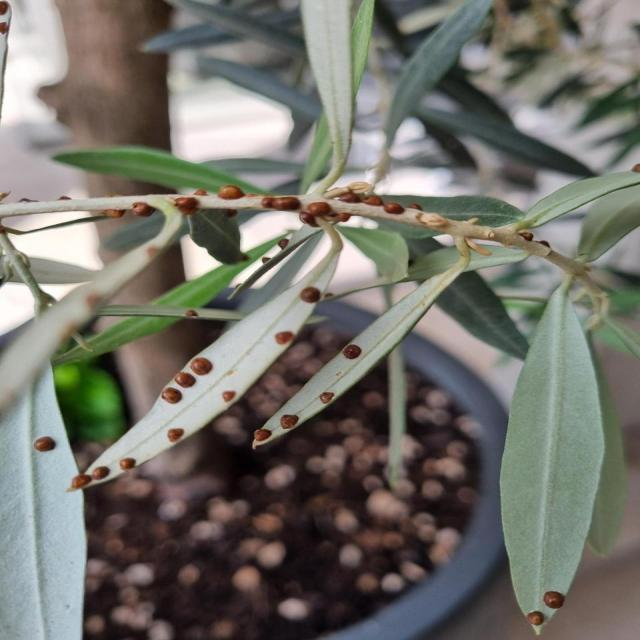Black Scale: (72, 466, 110, 489), (337, 191, 385, 206), (261, 196, 301, 212), (518, 232, 551, 250), (173, 196, 201, 216), (542, 590, 565, 610), (305, 200, 332, 217), (299, 286, 324, 304), (189, 357, 212, 376), (217, 185, 245, 200), (161, 386, 182, 404), (130, 202, 156, 216), (174, 372, 196, 388), (33, 436, 55, 452), (342, 344, 361, 360), (167, 428, 185, 444), (279, 414, 297, 430), (383, 202, 405, 215), (526, 610, 545, 625), (253, 427, 271, 441), (102, 208, 126, 218), (119, 458, 135, 472), (407, 204, 423, 212), (193, 189, 209, 196)
